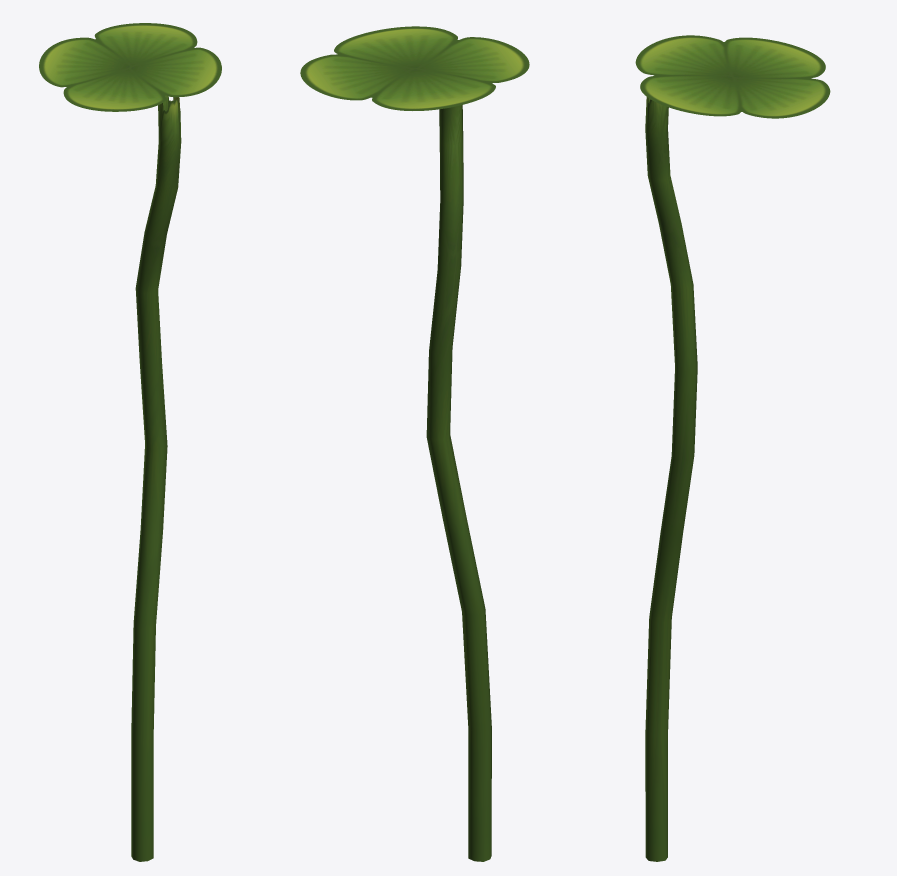
Rendered from LillypadBob.fbx.
The picture shows the model from 3 angles, left to right: view 1: azimuth 30°, elevation 25°; view 2: azimuth 150°, elevation 25°; view 3: azimuth 270°, elevation 25°; orthographic projection. The views are drawn at different scales.
Parts seen in each view (by area): view 1: LillypadBase (1), RoofTile; view 2: LillypadBase (1), RoofTile; view 3: LillypadBase (1), RoofTile.
Boxes of the visible parts, left/top/right/bottom form: LillypadBase (1): left=131, top=95, right=181, bottom=861; RoofTile: left=39, top=23, right=221, bottom=111; LillypadBase (1): left=426, top=105, right=491, bottom=861; RoofTile: left=300, top=26, right=529, bottom=110; LillypadBase (1): left=645, top=97, right=697, bottom=861; RoofTile: left=635, top=35, right=830, bottom=118.
Size of the model in its own units: 0.764 by 2.24 by 0.7673.
